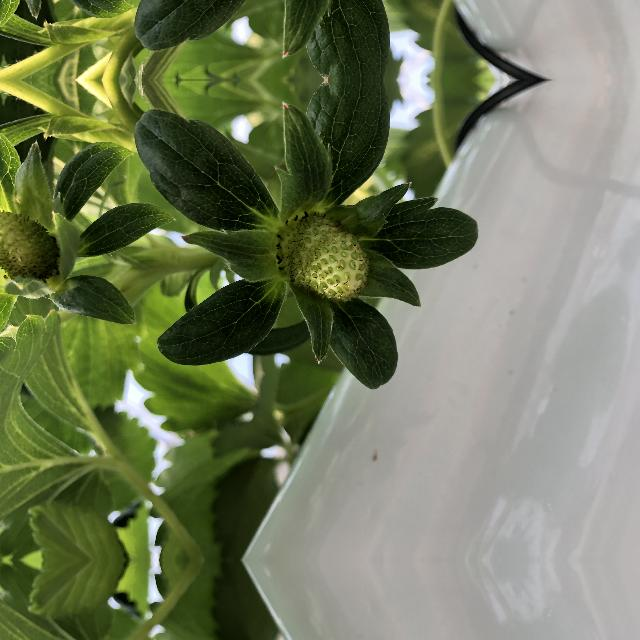Health_25: (278, 210, 374, 306), (0, 205, 70, 289)
